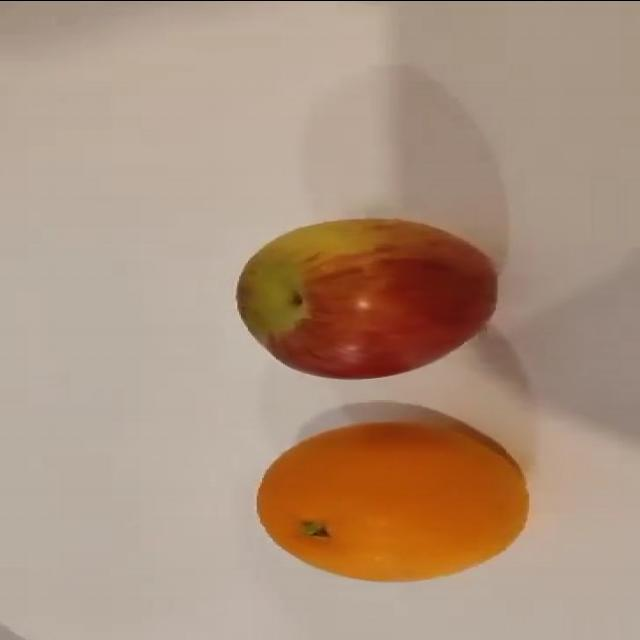Apple: (235, 216, 498, 380)
Orange: (255, 404, 529, 582)
